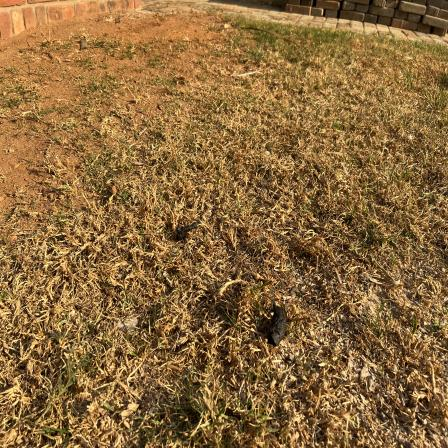dog-poop: (264, 299, 293, 353), (174, 216, 205, 245)
